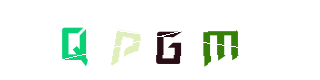G: (127, 0, 207, 80)
M: (178, 0, 258, 80)
P: (120, 0, 200, 80)
Q: (45, 0, 125, 80)
